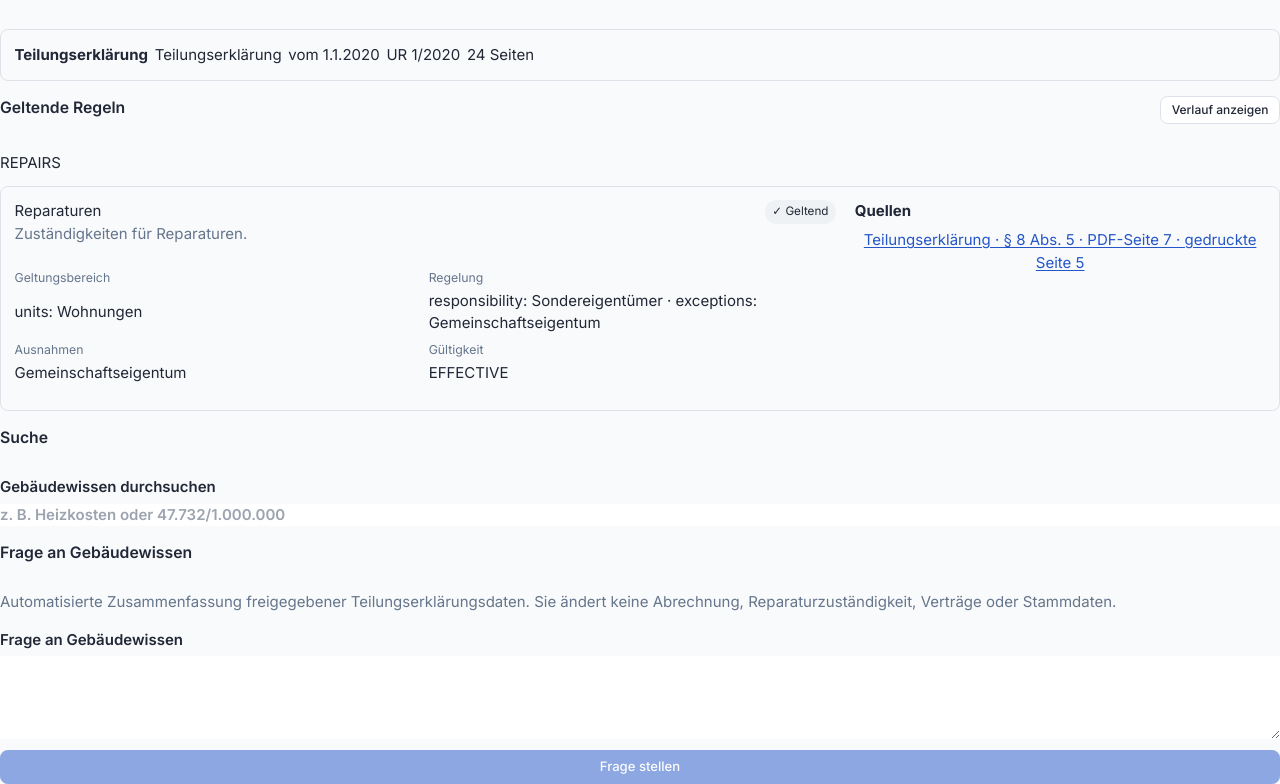
Test: Dokumente & Wissen › renders Q&A answers as text with cited source metadata
(page scrolled)
In the text box labelled "Frage an Gebäudewissen": (640, 698) [0,656,1279,739], type "Heizkosten?"
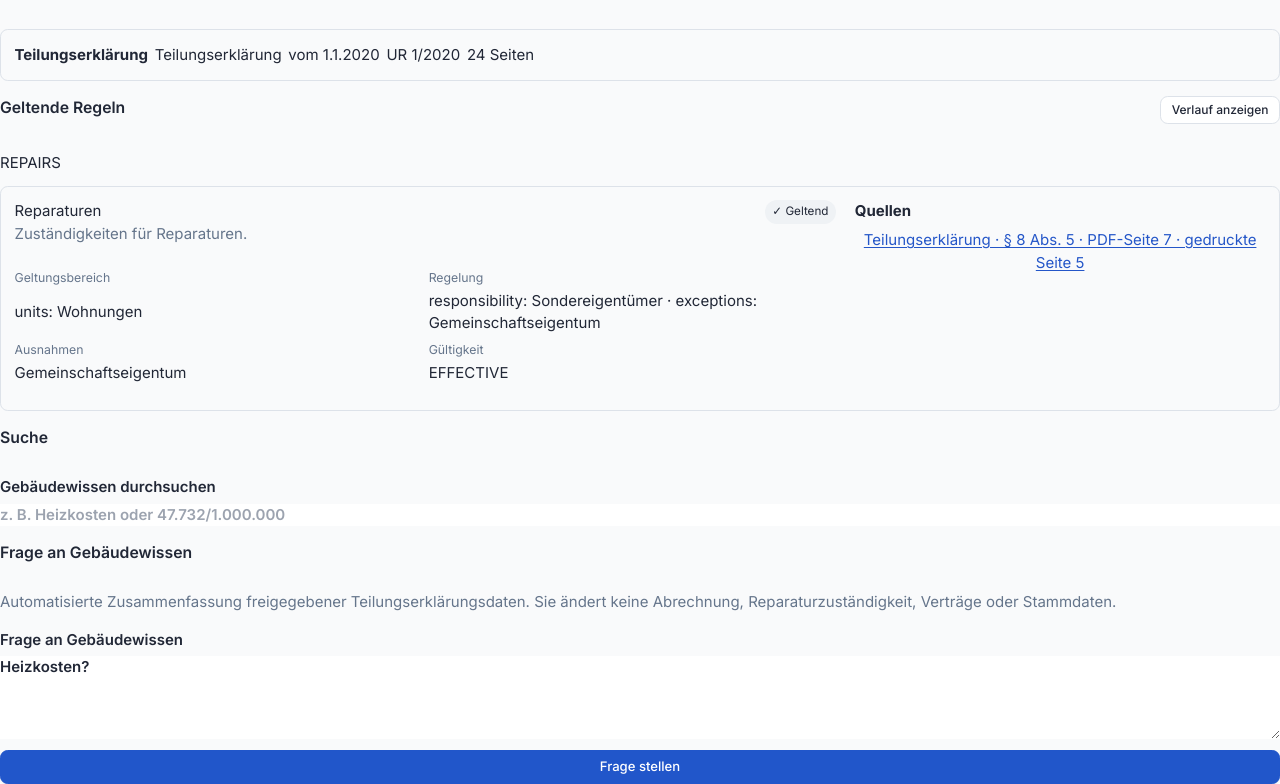
Click the button "Frage stellen": (640, 767) [0,750,1279,783]
(page scrolled)
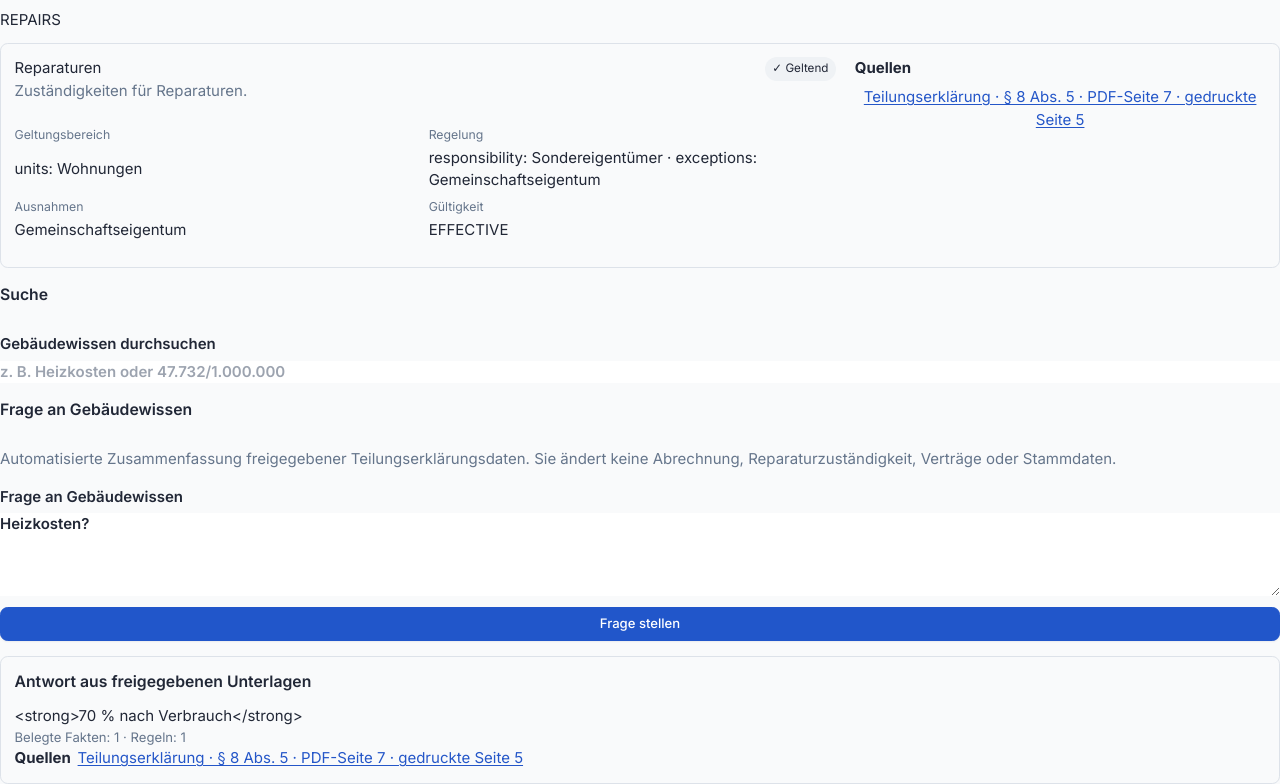
Now the text "<strong>70 % nach Verbrauch</strong>" is shown, box [14,706,303,725]
Now the text "Belegte Fakten: 1 · Regeln: 1" is shown, box [14,729,186,745]
